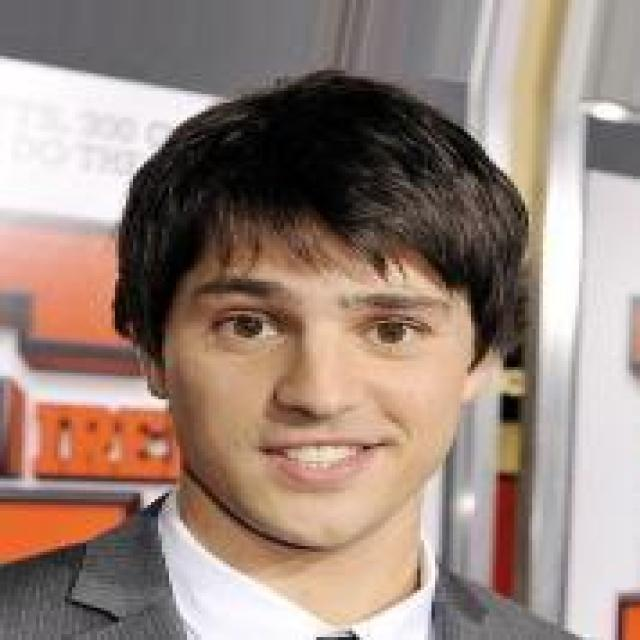bareface: (114, 155, 502, 569)
